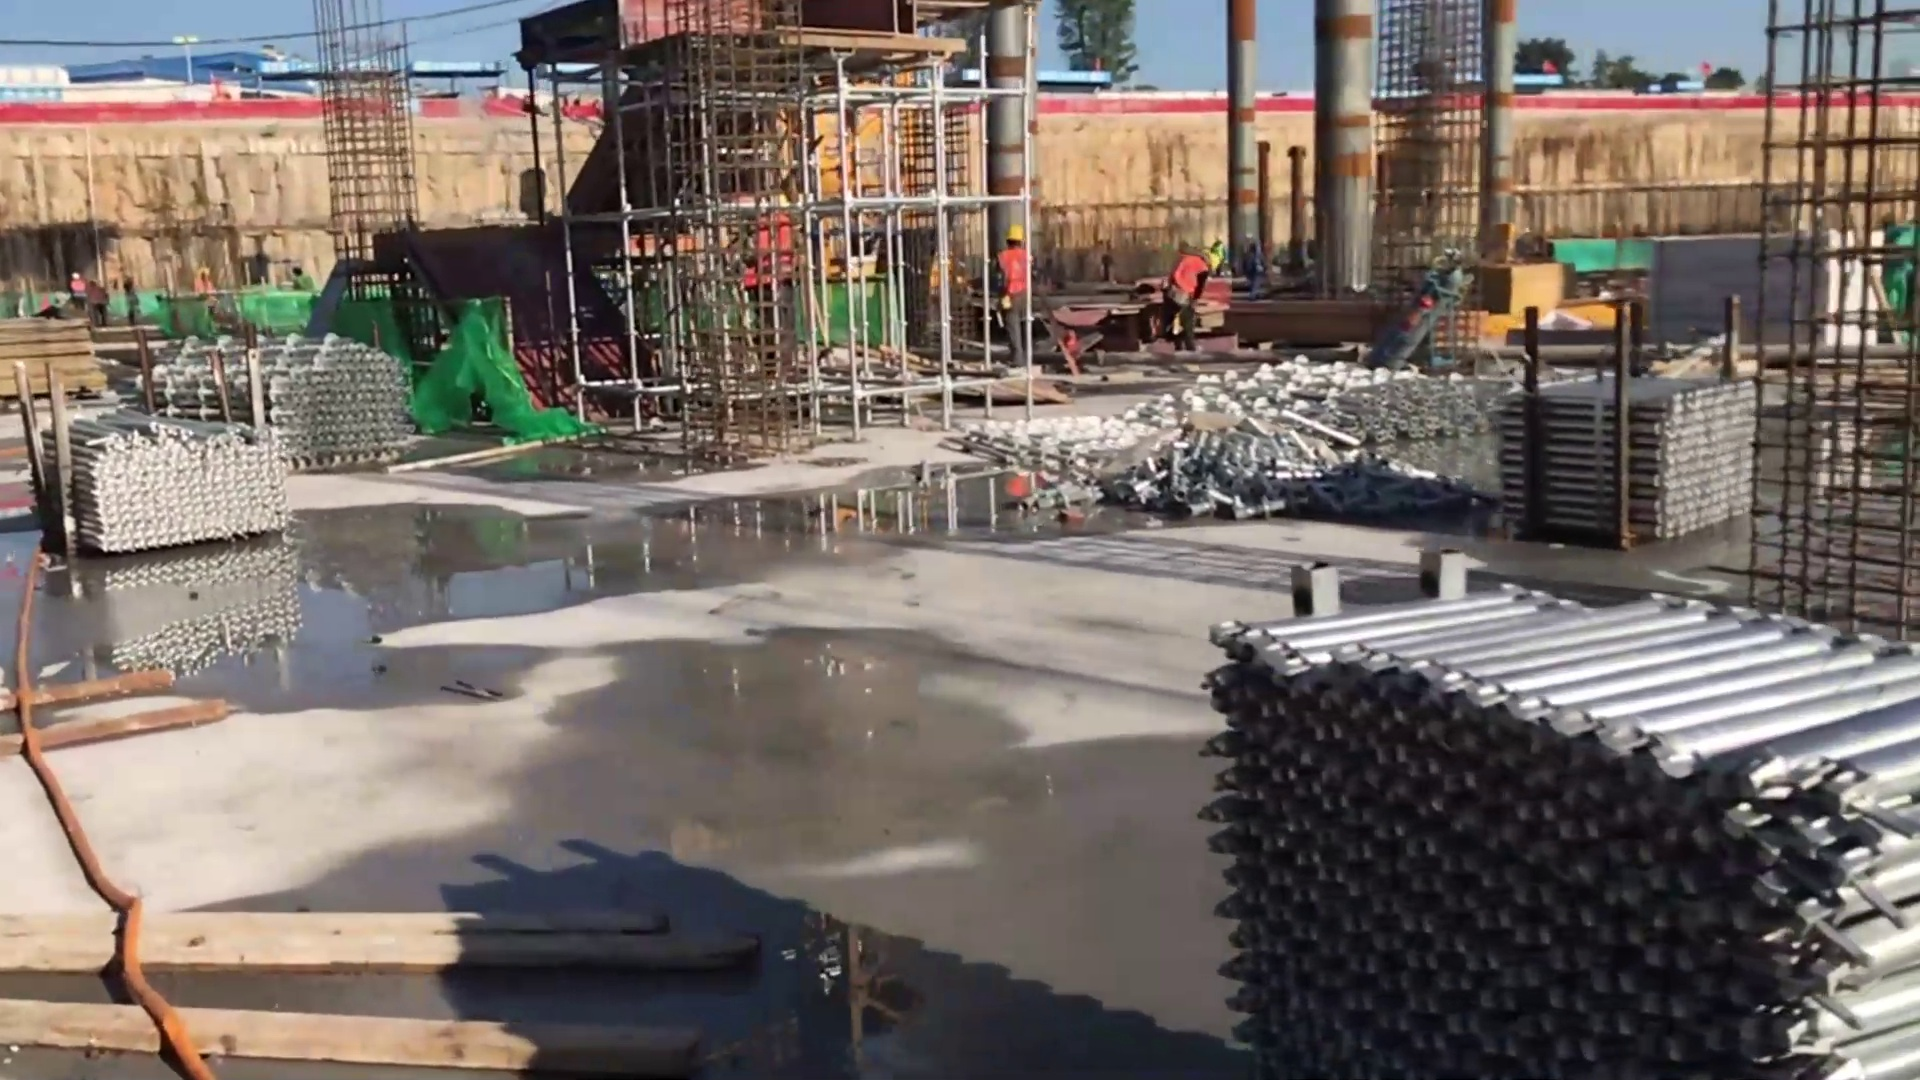board: (1, 309, 116, 392)
helmet: (1004, 225, 1024, 240)
person: (1170, 237, 1223, 361), (996, 219, 1038, 366)
scaffold: (1202, 595, 1920, 1080), (1496, 376, 1748, 547), (38, 410, 292, 548), (275, 331, 411, 465), (1321, 365, 1489, 435)
vest: (1174, 254, 1206, 312), (996, 249, 1032, 296)
